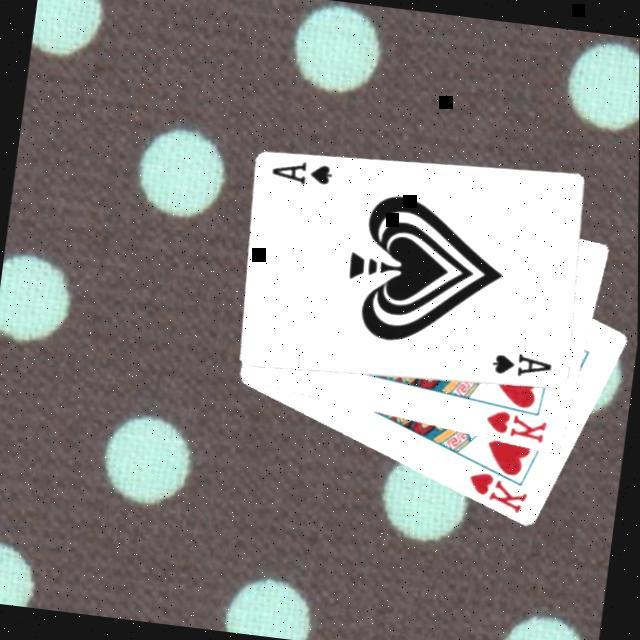AS: (488, 344, 556, 382), (266, 153, 337, 189)
KH: (462, 464, 532, 516), (480, 404, 550, 445)
